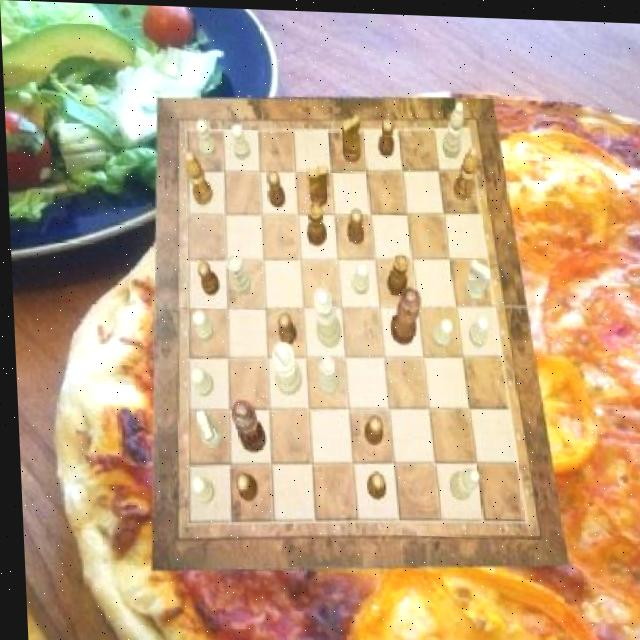bishop: (451, 142, 477, 197), (184, 150, 210, 205)
black-bishop: (227, 398, 262, 452)
black-king: (340, 113, 361, 161), (305, 162, 327, 205)
black-knight: (194, 259, 217, 294), (376, 116, 395, 155), (229, 471, 252, 500), (266, 169, 284, 206), (344, 207, 362, 242), (274, 312, 293, 345), (360, 413, 380, 443), (362, 470, 382, 498)
black-pawn: (385, 283, 419, 342)
black-queen: (382, 249, 407, 292), (304, 199, 325, 244)
black-rook: (439, 99, 463, 155), (444, 463, 475, 498)
white-bishop: (268, 339, 299, 394)
white-king: (461, 254, 490, 298), (191, 408, 218, 448)
white-knight: (195, 119, 216, 158), (464, 310, 486, 345), (230, 122, 250, 159), (189, 308, 210, 341), (186, 474, 210, 502), (185, 368, 209, 396), (429, 314, 450, 345), (349, 261, 367, 294)
white-pawn: (310, 286, 339, 347)
white-queen: (224, 252, 250, 293), (313, 355, 335, 394)
